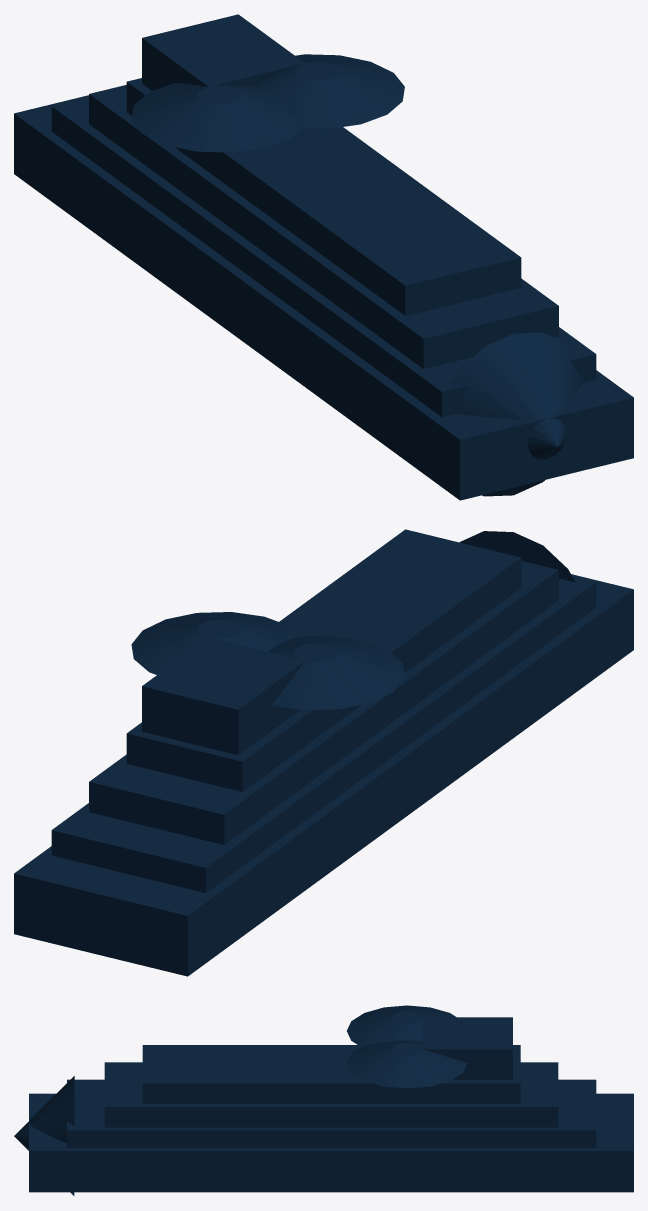
File: cruise_liner.glb
3 renders of one model, top to bottom at view 1: azimuth 30°, elevation 25°; view 2: azimuth 150°, elevation 25°; view 3: azimuth 270°, elevation 25°, orthographic. The views are drawn at different scales.
Parts seen in each view (by area): view 1: hull, deck3, deck2, deck1, bow, funnel1, bridge, funnel2; view 2: hull, deck3, deck1, deck2, bridge, funnel1, funnel2, bow; view 3: hull, deck3, deck1, deck2, bridge, funnel2, funnel1, bow.
Part boxes in pixels (<box>): hull: <box>14,95,633,500</box>; deck3: <box>126,78,521,315</box>; deck2: <box>89,85,558,368</box>; deck1: <box>51,97,596,416</box>; bow: <box>452,332,582,496</box>; funnel1: <box>131,82,301,152</box>; bridge: <box>142,14,304,90</box>; funnel2: <box>257,54,404,128</box>; hull: <box>14,574,633,976</box>; deck3: <box>126,529,521,791</box>; deck1: <box>51,576,596,892</box>; deck2: <box>89,561,558,844</box>; bridge: <box>142,637,304,755</box>; funnel1: <box>268,635,404,710</box>; funnel2: <box>131,612,301,674</box>; bow: <box>459,531,575,582</box>; hull: <box>29,1093,633,1192</box>; deck3: <box>142,1045,520,1103</box>; deck1: <box>67,1079,596,1147</box>; deck2: <box>104,1062,558,1127</box>; bridge: <box>422,1017,512,1079</box>; funnel2: <box>347,1040,467,1088</box>; funnel1: <box>347,1005,456,1046</box>; bow: <box>14,1076,74,1195</box>.
Bounding box in the file's own units: 26 × 23 × 82.
